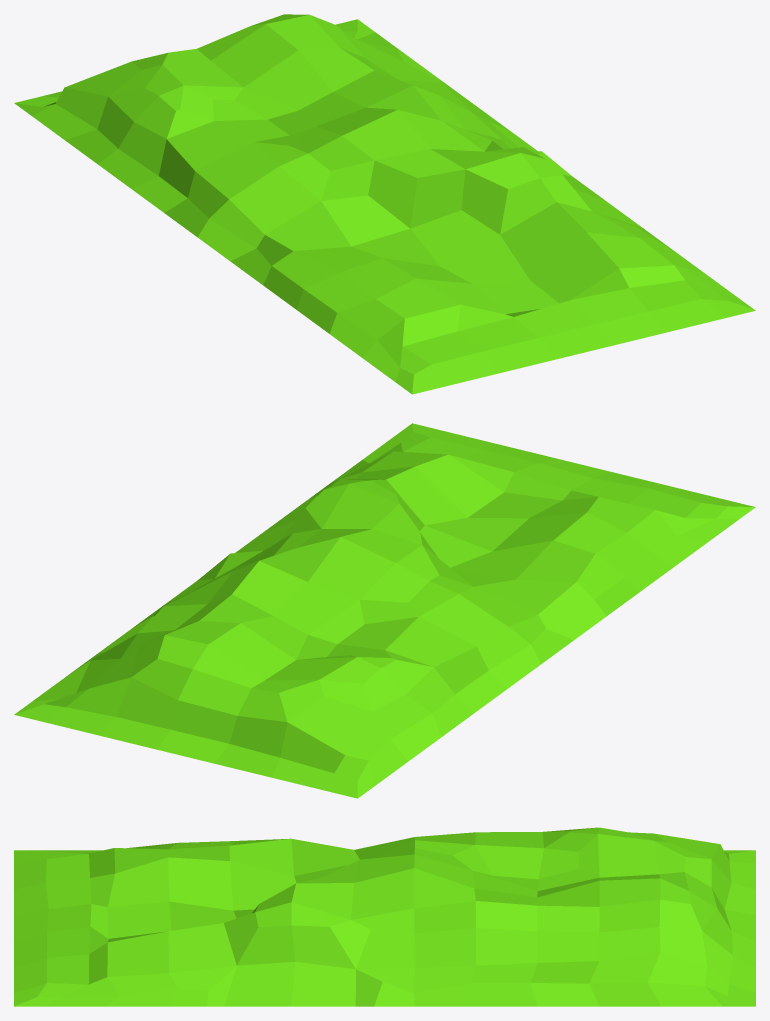
File: Pradera.fbx
The picture shows the model from 3 angles, top to bottom: view 1: azimuth 30°, elevation 25°; view 2: azimuth 150°, elevation 25°; view 3: azimuth 270°, elevation 25°; orthographic projection. The views are drawn at different scales.
Visible parts, largest first — view 1: Cubo; view 2: Cubo; view 3: Cubo.
Boxes of the visible parts, x1,y1,x2,y2 form: Cubo: (14,14,755,394); Cubo: (14,423,755,798); Cubo: (14,827,755,1006).
Bounding box in the file's own units: 600 × 1204 × 131.
